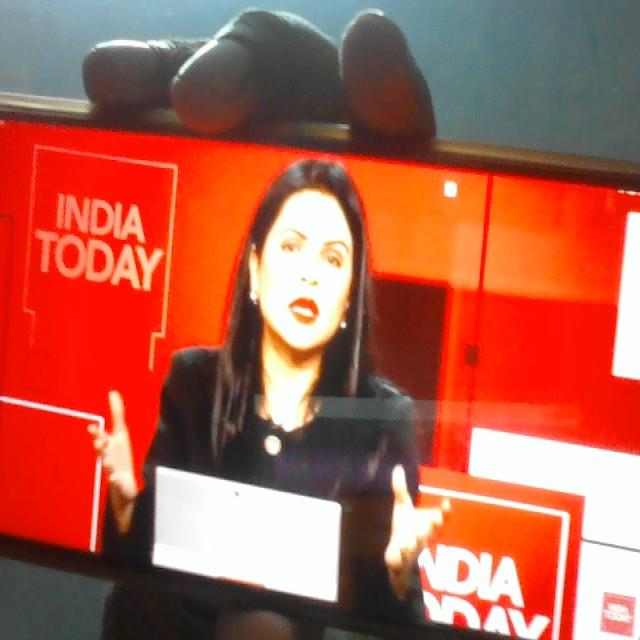fake: (239, 149, 365, 387)
